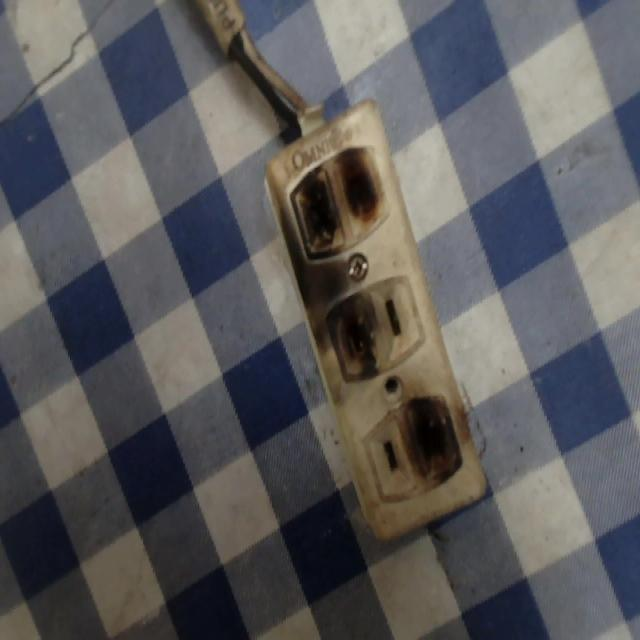-: (275, 133, 388, 260), (399, 387, 465, 489), (326, 297, 384, 383)
